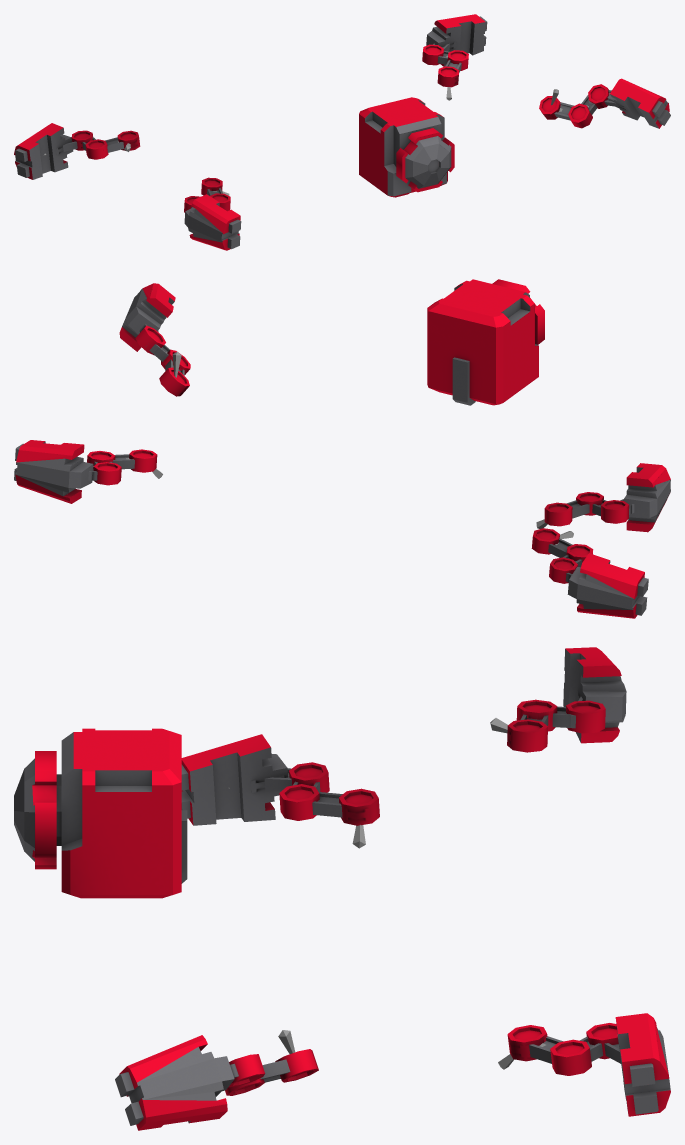
The model's file is Monster1_Die13.obj.
3 renders of one model, top to bottom at view 1: azimuth 30°, elevation 25°; view 2: azimuth 150°, elevation 25°; view 3: azimuth 270°, elevation 25°, orthographic. The views are drawn at different scales.
Parts seen in each view (by area): view 1: Box006, Object021, Object025, Object013, Object017, Object019, Object018, Object026, Object014, Object020, Object027, Object015 (+2 smaller); view 2: Box006, Object025, Object013, Object021, Object017, Object022, Object026, Object014, Object024, Object016, Object018, Object028 (+1 smaller); view 3: Box006, Object017, Object021, Object013, Object025, Object022, Object015, Object014, Object026, Object018, Object023, Object024 (+4 smaller).
Part boxes in pixels (<box>): Box006: <box>359,97,454,197</box>; Object021: <box>184,194,241,250</box>; Object025: <box>14,123,73,179</box>; Object013: <box>426,14,487,66</box>; Object017: <box>607,78,670,128</box>; Object019: <box>568,95,597,128</box>; Object018: <box>539,96,574,120</box>; Object026: <box>105,130,140,152</box>; Object014: <box>437,60,461,87</box>; Object020: <box>588,84,618,108</box>; Object027: <box>82,137,108,159</box>; Object015: <box>437,50,468,70</box>; Box006: <box>427,279,544,405</box>; Object025: <box>567,553,648,618</box>; Object013: <box>14,440,93,503</box>; Object021: <box>624,463,670,532</box>; Object017: <box>119,283,175,351</box>; Object022: <box>544,500,589,526</box>; Object026: <box>531,528,572,557</box>; Object014: <box>112,449,157,472</box>; Object024: <box>601,499,634,523</box>; Object016: <box>88,462,121,485</box>; Object018: <box>159,359,189,396</box>; Object028: <box>549,557,577,583</box>; Box006: <box>14,728,187,898</box>; Object017: <box>115,1035,234,1130</box>; Object021: <box>181,734,288,825</box>; Object013: <box>615,1013,670,1116</box>; Object025: <box>563,647,626,743</box>; Object022: <box>312,788,379,825</box>; Object015: <box>550,1036,603,1075</box>; Object014: <box>507,1025,563,1063</box>; Object026: <box>507,714,548,752</box>; Object018: <box>260,1049,318,1082</box>; Object023: <box>279,781,320,820</box>; Object024: <box>264,762,329,792</box>.
Bounding box in the file's own units: 466 × 96.43 × 276.
